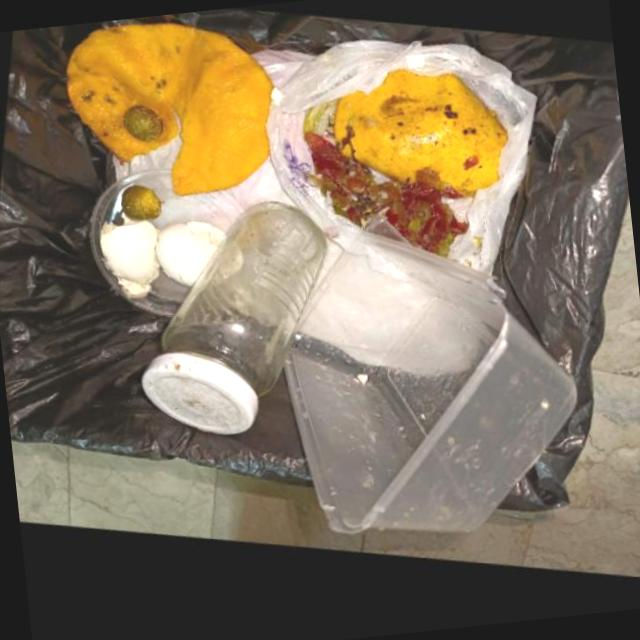chai_thuy_tinh: (140, 204, 326, 438)
hop_nhua: (283, 234, 576, 537)
tui_ni_long: (249, 41, 534, 276)
vo_trai_cay: (62, 26, 271, 201), (330, 71, 505, 199), (302, 127, 467, 259), (119, 190, 161, 227), (121, 109, 161, 147)
vo_trung: (97, 220, 158, 303), (153, 226, 224, 291)
